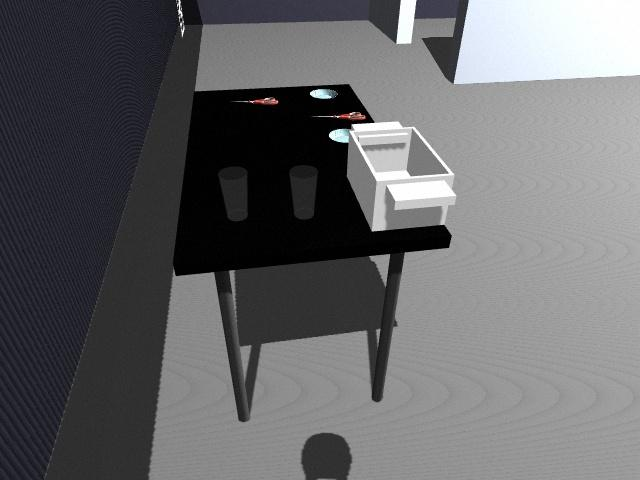cup: (217, 166, 249, 221), (289, 166, 317, 219)
plate: (309, 88, 339, 99), (329, 129, 350, 143)
scissors: (310, 111, 365, 120), (229, 97, 278, 106)
